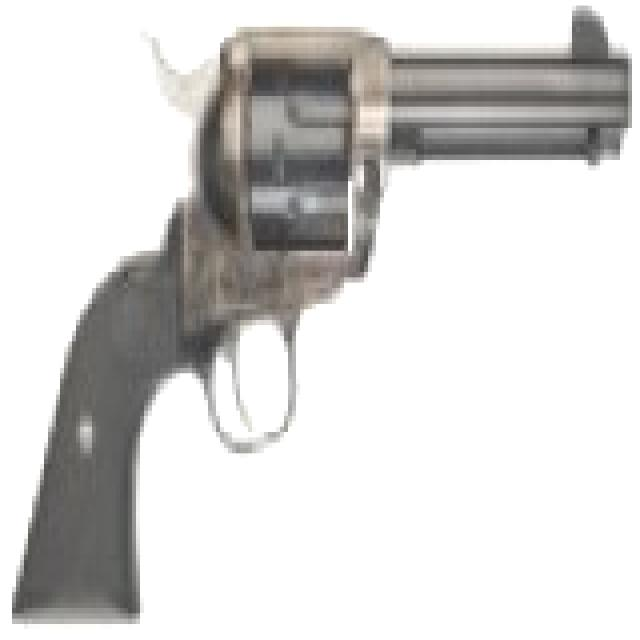pistol: (24, 0, 632, 608)
